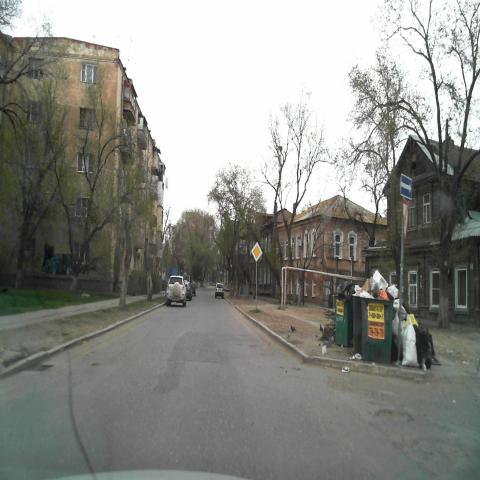5_7_1: (398, 173, 413, 199)
